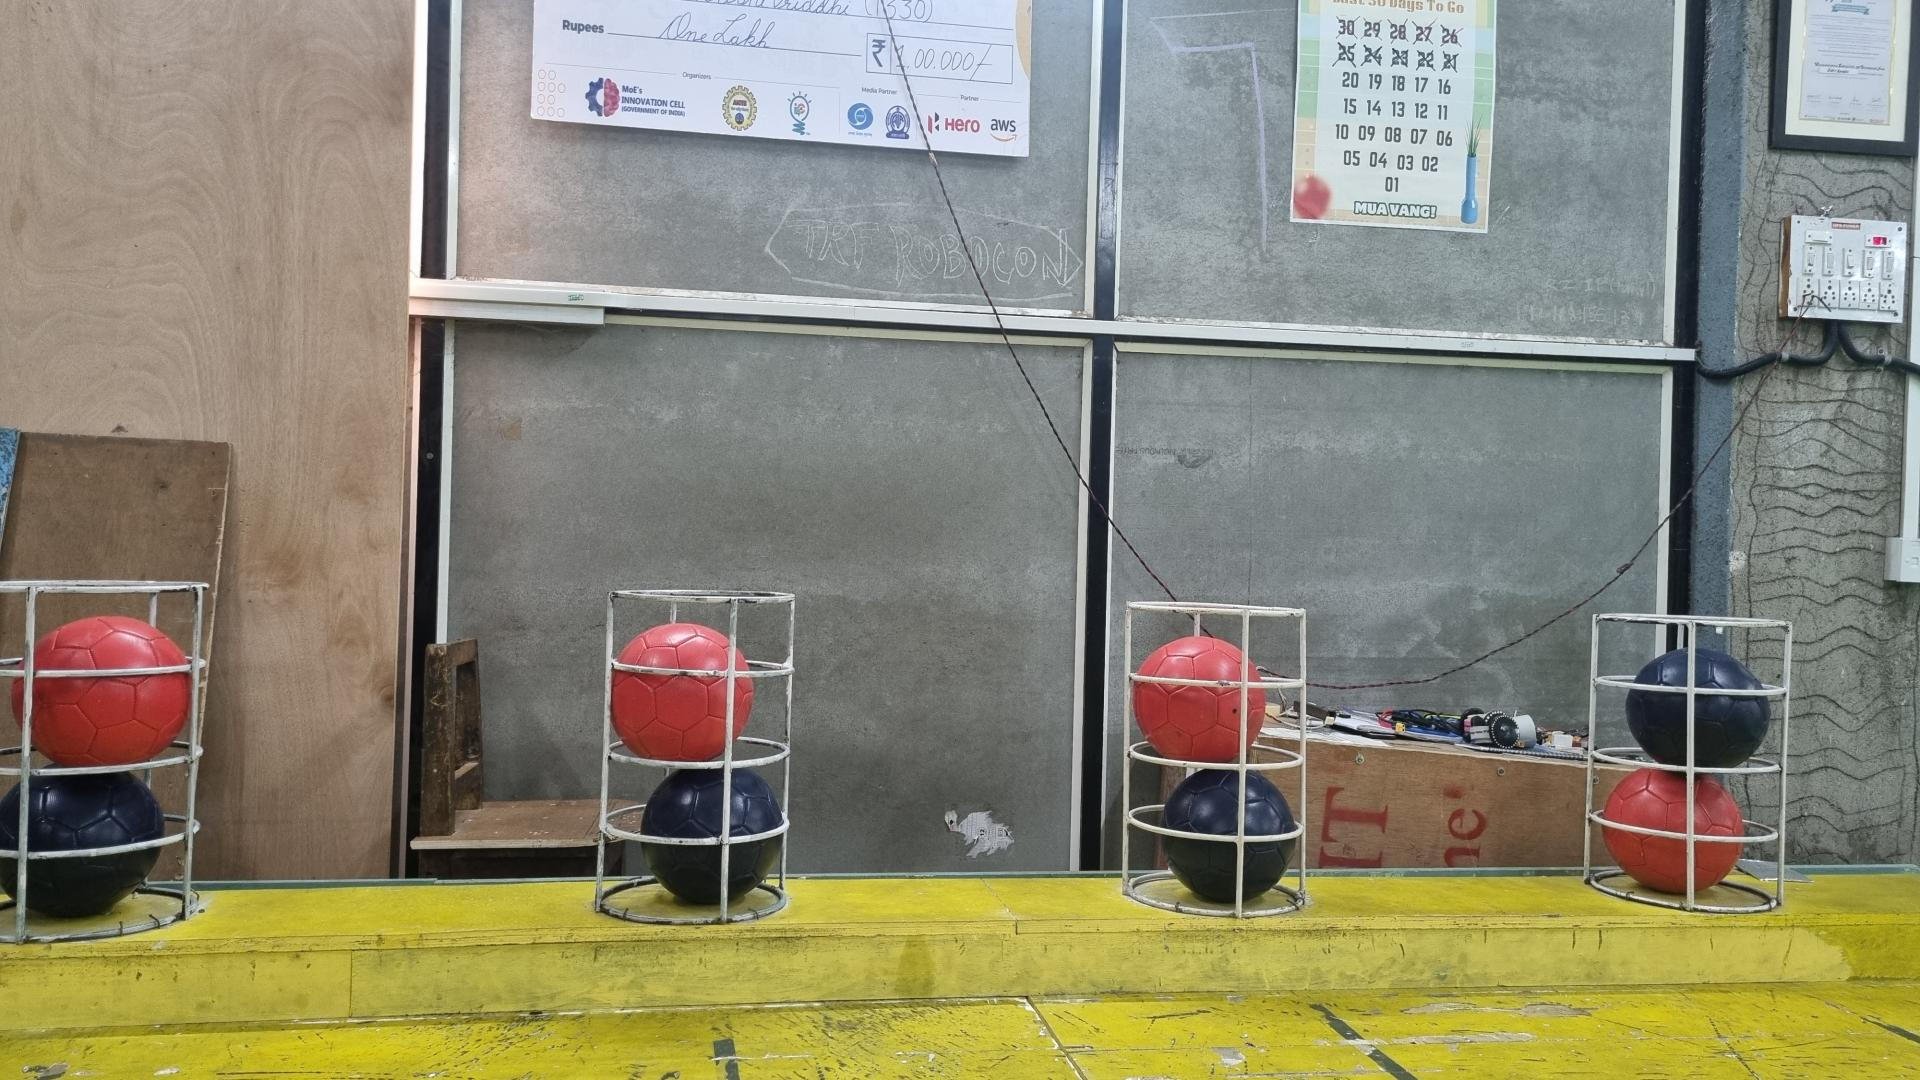dhoka: (0, 771, 165, 918), (641, 767, 783, 907), (1159, 767, 1298, 907), (1623, 649, 1770, 767)
laale: (12, 615, 195, 767), (612, 622, 754, 765), (1601, 767, 1743, 895), (1133, 633, 1267, 765)
